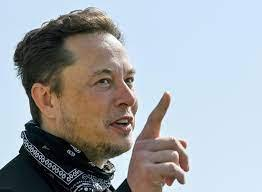Persons: (7, 6, 143, 163)
